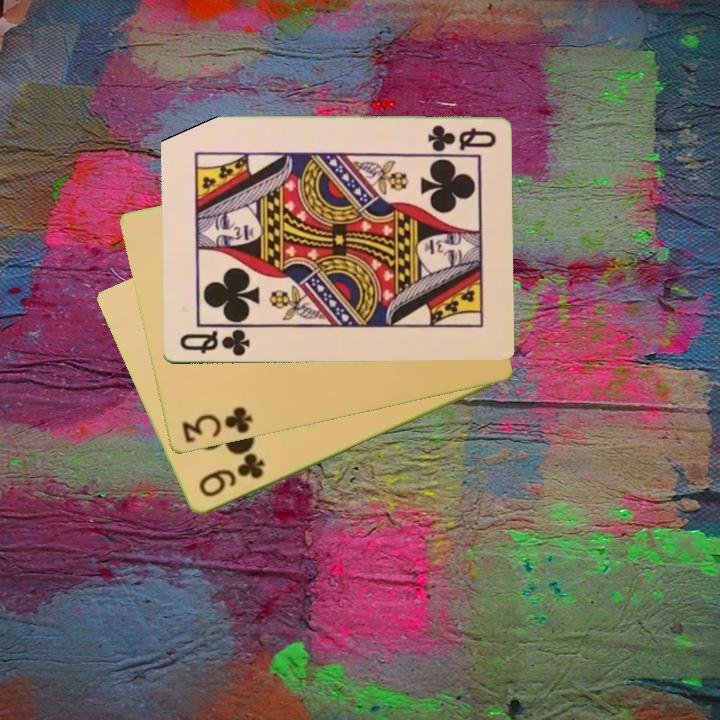3c: (177, 403, 255, 446)
9c: (195, 452, 267, 501)
Qc: (176, 326, 252, 359), (423, 122, 499, 152)
